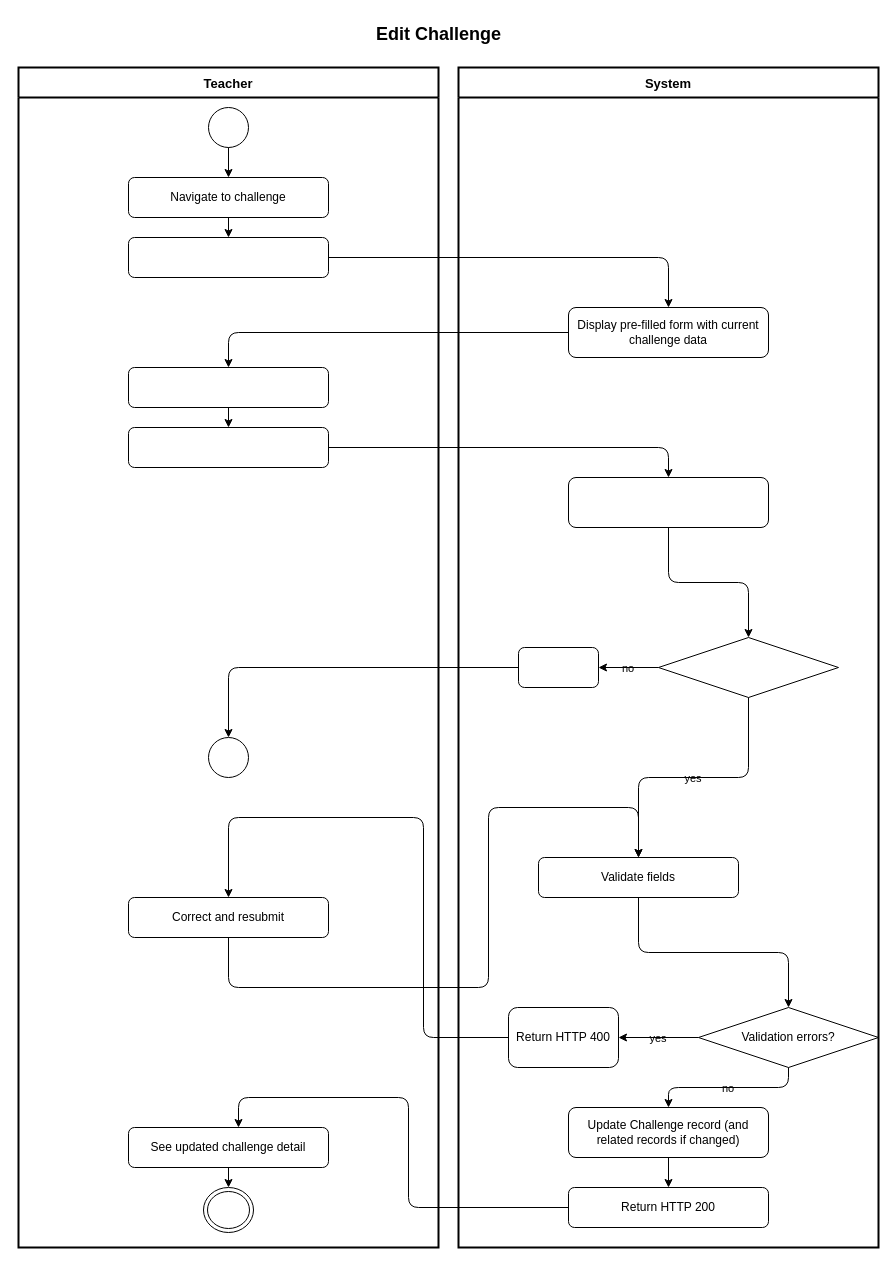
This 896x1265 diagram has some shape labels left out. Here are the shapes that lost their labels. From the top down, the centre of each, then its label:
(x=228, y=257): Click "Edit Challenge"
(x=228, y=387): Modify desired fields
(x=228, y=447): Click "Save"
(x=668, y=502): Check ownership of parent course
(x=558, y=667): Return HTTP 403
(x=748, y=667): User is owner?
